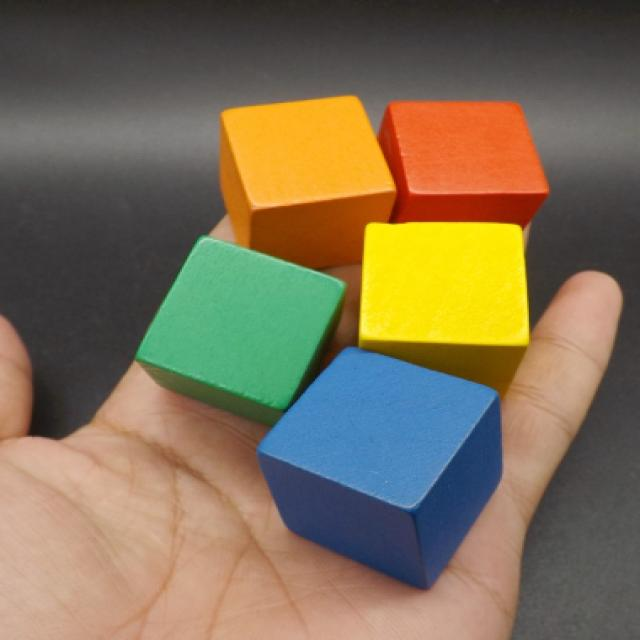bluecube: (253, 346, 506, 593)
green cube: (133, 233, 350, 427)
red cube: (375, 101, 552, 231)
